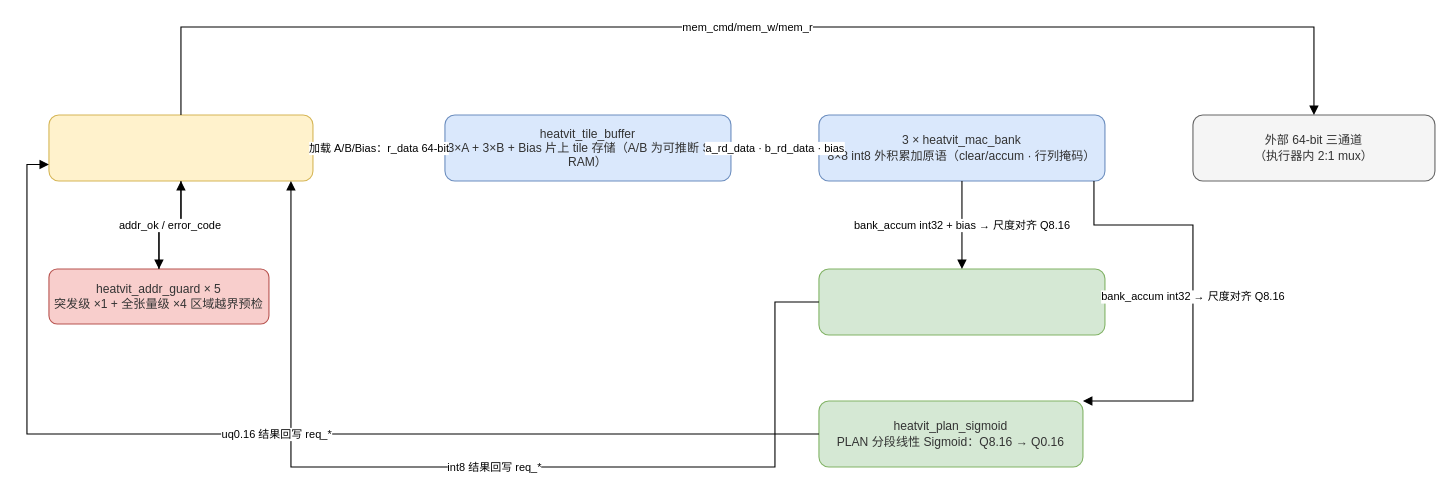
Image size: 1454x495. Some labels were removed from this diagram. The shapes that lost their labels are listed below. From the top down, each one's centre as x and y in pixels, then its label:
At (x=180, y=147): "heatvit_mem_master GEMM 自备存储主机：单笔在途 64-bit 突发".
At (x=961, y=301): "heatvit_gelu I-ViT ShiftGELU：40 级除法流水，Q8.16→Q8.16".
